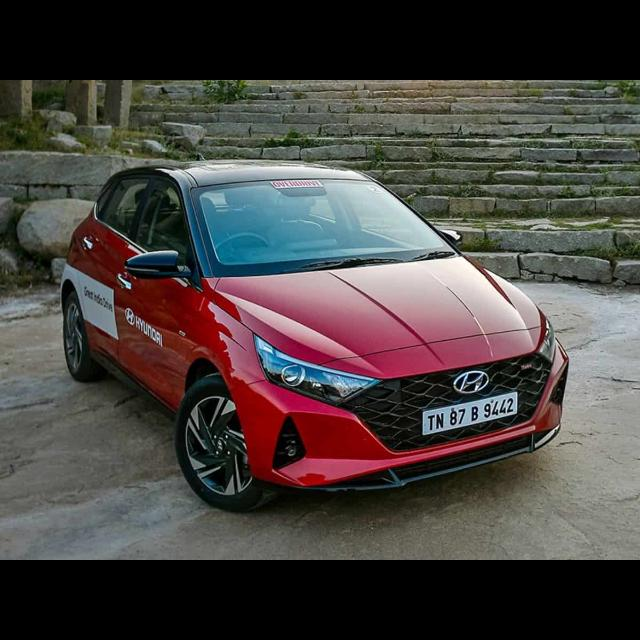number-plate: (421, 391, 518, 435)
vehicles: (60, 159, 570, 518)
